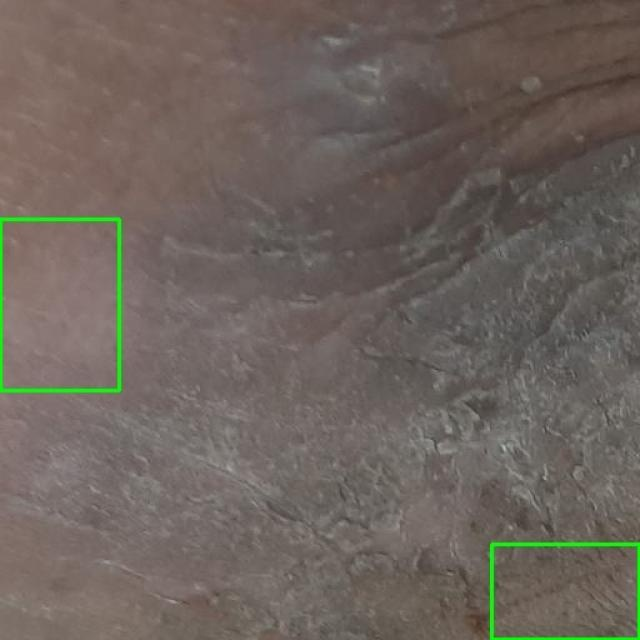Eczema: (0, 219, 119, 390), (491, 544, 639, 639)
